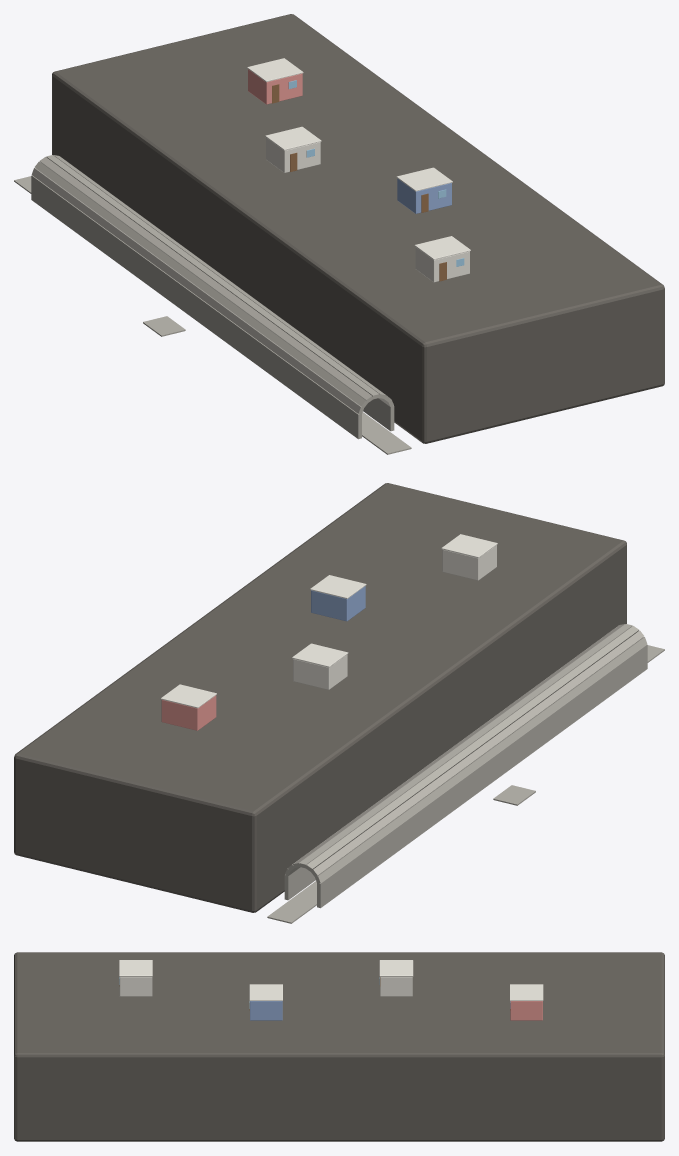
File: HuinnyeoulVillage_blockout.glb
3 renders of one model, top to bottom at view 1: azimuth 30°, elevation 25°; view 2: azimuth 150°, elevation 25°; view 3: azimuth 270°, elevation 25°, orthographic. The views are drawn at different scales.
Visible parts, largest first — view 1: ENV07_HuinnyeoulVillage_Cliff_L0, ENV07_HuinnyeoulVillage_TunnelWall0_L0, ENV07_HuinnyeoulVillage_TunnelArch7_L0, ENV07_HuinnyeoulVillage_TunnelArch5_L0, ENV07_HuinnyeoulVillage_TunnelArch6_L0, ENV07_HuinnyeoulVillage_TunnelArch8_L0, ENV07_HuinnyeoulVillage_TunnelArch4_L0, ENV07_HuinnyeoulVillage_TunnelArch3_L0, ENV07_HuinnyeoulVillage_CoastPath_L0, ENV07_HuinnyeoulVillage_Village1Wall_L0, ENV07_HuinnyeoulVillage_Village0Wall_L0, ENV07_HuinnyeoulVillage_Village3Wall_L0 (+5 smaller); view 2: ENV07_HuinnyeoulVillage_Cliff_L0, ENV07_HuinnyeoulVillage_TunnelWall0_L0, ENV07_HuinnyeoulVillage_TunnelArch7_L0, ENV07_HuinnyeoulVillage_TunnelArch5_L0, ENV07_HuinnyeoulVillage_TunnelArch6_L0, ENV07_HuinnyeoulVillage_TunnelArch8_L0, ENV07_HuinnyeoulVillage_TunnelArch4_L0, ENV07_HuinnyeoulVillage_TunnelArch3_L0, ENV07_HuinnyeoulVillage_Village3Wall_L0, ENV07_HuinnyeoulVillage_Village0Wall_L0, ENV07_HuinnyeoulVillage_Village2Wall_L0, ENV07_HuinnyeoulVillage_Village1Wall_L0 (+5 smaller); view 3: ENV07_HuinnyeoulVillage_Cliff_L0, ENV07_HuinnyeoulVillage_Village0Wall_L0, ENV07_HuinnyeoulVillage_Village1Wall_L0, ENV07_HuinnyeoulVillage_Village2Wall_L0, ENV07_HuinnyeoulVillage_Village3Wall_L0, ENV07_HuinnyeoulVillage_Village2Roof_L0, ENV07_HuinnyeoulVillage_Village0Roof_L0, ENV07_HuinnyeoulVillage_Village1Roof_L0, ENV07_HuinnyeoulVillage_Village3Roof_L0.
Part boxes in pixels (<box>): ENV07_HuinnyeoulVillage_Cliff_L0: <box>52,14,664,443</box>; ENV07_HuinnyeoulVillage_TunnelWall0_L0: <box>31,180,361,439</box>; ENV07_HuinnyeoulVillage_TunnelArch7_L0: <box>31,168,363,414</box>; ENV07_HuinnyeoulVillage_TunnelArch5_L0: <box>40,157,372,402</box>; ENV07_HuinnyeoulVillage_TunnelArch6_L0: <box>34,161,367,408</box>; ENV07_HuinnyeoulVillage_TunnelArch8_L0: <box>31,175,361,421</box>; ENV07_HuinnyeoulVillage_TunnelArch4_L0: <box>46,155,379,399</box>; ENV07_HuinnyeoulVillage_TunnelArch3_L0: <box>53,155,385,398</box>; ENV07_HuinnyeoulVillage_CoastPath_L0: <box>14,176,411,454</box>; ENV07_HuinnyeoulVillage_Village1Wall_L0: <box>397,178,451,213</box>; ENV07_HuinnyeoulVillage_Village0Wall_L0: <box>415,247,469,282</box>; ENV07_HuinnyeoulVillage_Village3Wall_L0: <box>248,69,302,104</box>; ENV07_HuinnyeoulVillage_Cliff_L0: <box>14,483,626,912</box>; ENV07_HuinnyeoulVillage_TunnelWall0_L0: <box>317,650,647,908</box>; ENV07_HuinnyeoulVillage_TunnelArch7_L0: <box>315,637,647,883</box>; ENV07_HuinnyeoulVillage_TunnelArch5_L0: <box>306,626,638,871</box>; ENV07_HuinnyeoulVillage_TunnelArch6_L0: <box>311,630,644,877</box>; ENV07_HuinnyeoulVillage_TunnelArch8_L0: <box>317,644,647,890</box>; ENV07_HuinnyeoulVillage_TunnelArch4_L0: <box>299,624,632,868</box>; ENV07_HuinnyeoulVillage_TunnelArch3_L0: <box>293,624,625,867</box>; ENV07_HuinnyeoulVillage_Village3Wall_L0: <box>161,695,216,730</box>; ENV07_HuinnyeoulVillage_Village0Wall_L0: <box>442,545,496,580</box>; ENV07_HuinnyeoulVillage_Village2Wall_L0: <box>293,654,347,689</box>; ENV07_HuinnyeoulVillage_Village1Wall_L0: <box>311,586,365,621</box>; ENV07_HuinnyeoulVillage_Cliff_L0: <box>14,952,664,1141</box>; ENV07_HuinnyeoulVillage_Village0Wall_L0: <box>119,977,152,996</box>; ENV07_HuinnyeoulVillage_Village1Wall_L0: <box>250,1001,282,1020</box>; ENV07_HuinnyeoulVillage_Village2Wall_L0: <box>380,977,412,996</box>; ENV07_HuinnyeoulVillage_Village3Wall_L0: <box>510,1001,542,1020</box>; ENV07_HuinnyeoulVillage_Village2Roof_L0: <box>379,960,413,976</box>; ENV07_HuinnyeoulVillage_Village0Roof_L0: <box>119,960,152,976</box>; ENV07_HuinnyeoulVillage_Village1Roof_L0: <box>249,984,282,1000</box>; ENV07_HuinnyeoulVillage_Village3Roof_L0: <box>510,984,543,1000</box>.
Bounding box in the file's own units: 40.5 × 14.85 × 80.
